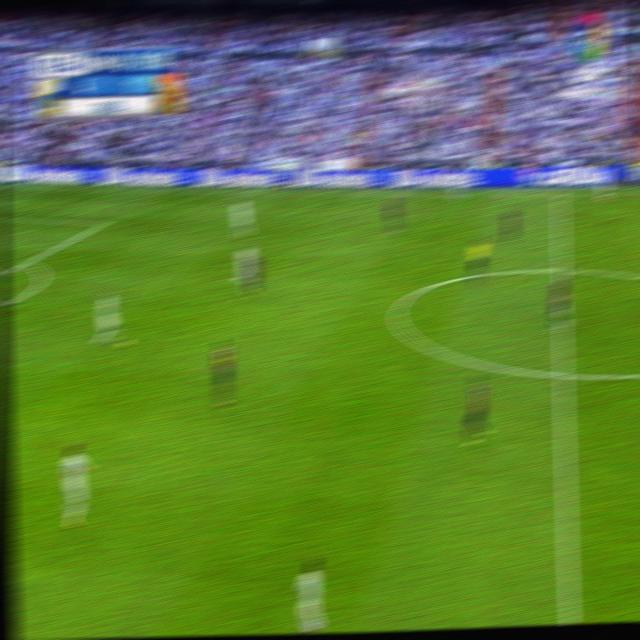bigarea_bottom_outter: (21, 253, 34, 267)
halfcircle_bottom: (553, 359, 572, 388)
halfcircle_top: (552, 258, 570, 280)
midline_top_intersection: (553, 187, 566, 200)
